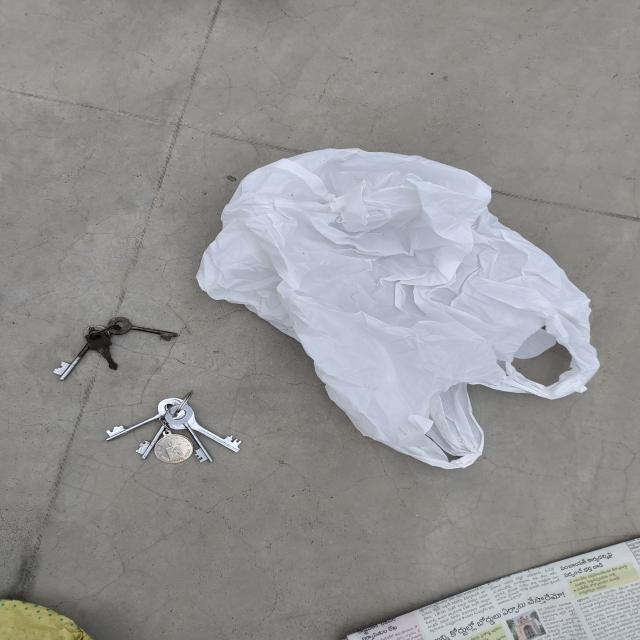dry: (199, 161, 633, 394), (102, 402, 255, 471), (39, 319, 179, 383)
